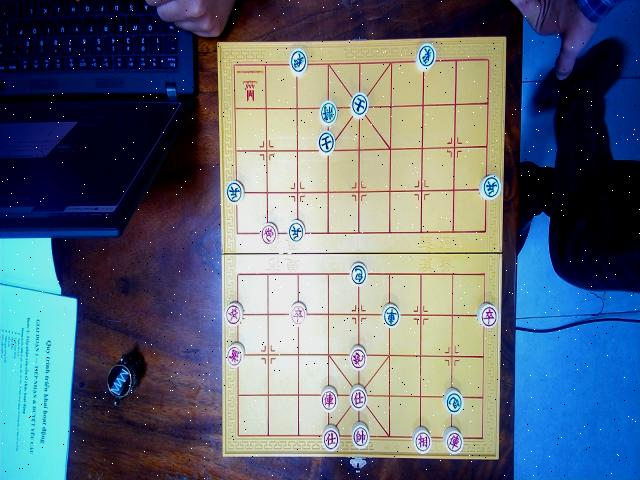piece: (478, 172, 500, 200), (415, 42, 436, 70), (412, 426, 432, 454), (443, 387, 463, 415), (477, 301, 497, 328), (226, 340, 245, 368), (322, 424, 341, 452), (442, 427, 462, 453), (351, 422, 370, 449), (382, 301, 401, 328), (349, 384, 367, 410), (320, 386, 338, 412), (350, 344, 368, 370), (350, 260, 368, 286), (289, 48, 307, 74), (350, 92, 368, 118), (319, 99, 337, 125), (225, 301, 244, 325), (318, 130, 336, 154), (290, 300, 307, 324), (226, 178, 243, 202), (260, 222, 276, 244), (288, 220, 304, 242)
